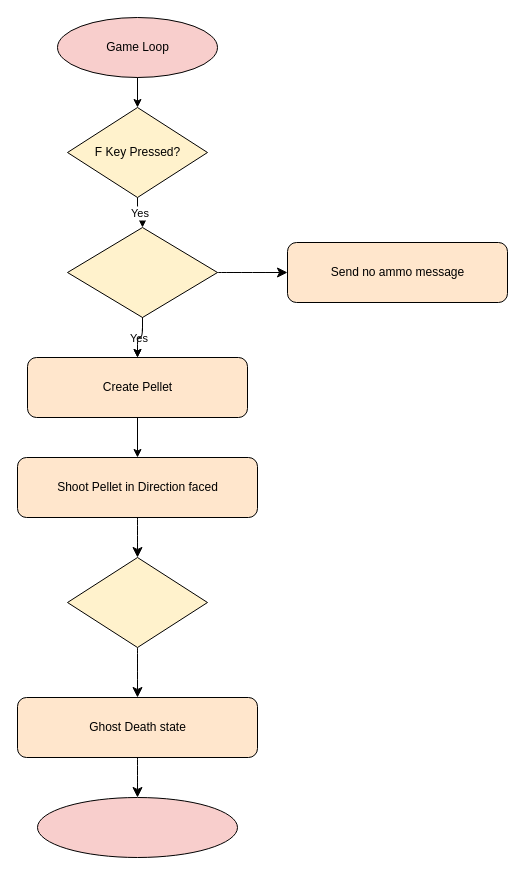
Image size: 525x875. Some labels were removed from this diagram. Here are the shapes that lost their labels. From the top down, the centre of each, then its label:
At (142,272): "Pellet Available?".
At (137,602): "Does pellet hit ghost".
At (137,827): "Return to Game Loop".
